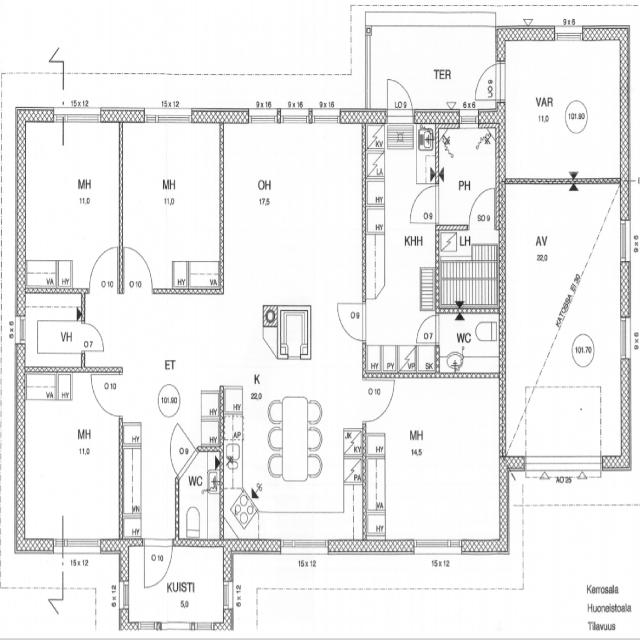door: (121, 242, 155, 295), (87, 242, 121, 294), (405, 179, 442, 225), (142, 537, 174, 590), (90, 371, 124, 418), (384, 75, 416, 122), (334, 300, 368, 344), (364, 378, 396, 424), (467, 183, 498, 228), (472, 60, 501, 106), (78, 319, 108, 356), (414, 310, 441, 346)
window: (279, 536, 331, 558), (412, 536, 463, 558), (363, 28, 377, 107), (54, 106, 104, 128), (144, 106, 193, 128), (62, 535, 104, 556), (276, 106, 314, 129), (246, 107, 282, 129), (618, 312, 632, 363), (309, 107, 343, 128), (494, 57, 508, 106), (618, 217, 631, 266), (554, 24, 585, 44), (454, 108, 482, 130), (157, 620, 196, 635), (14, 313, 27, 347), (222, 579, 234, 615), (190, 619, 215, 634), (138, 618, 160, 634)
zone: (219, 120, 367, 298), (366, 376, 502, 544), (501, 40, 624, 184), (22, 371, 121, 547), (120, 119, 222, 287), (23, 118, 122, 290), (435, 122, 498, 226), (435, 224, 500, 310), (20, 292, 88, 373), (435, 309, 502, 379), (176, 450, 222, 544)
